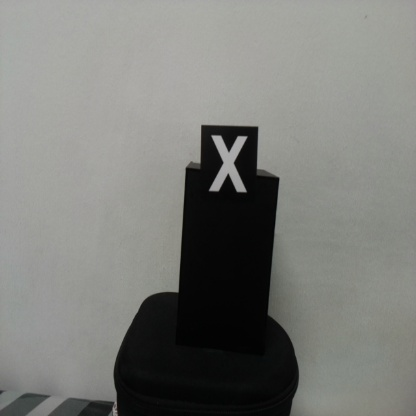id_13: (201, 126, 258, 208)
